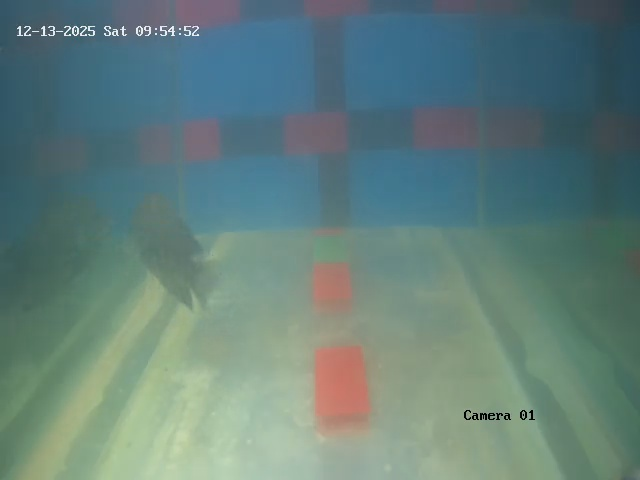fish: (118, 189, 231, 314)
